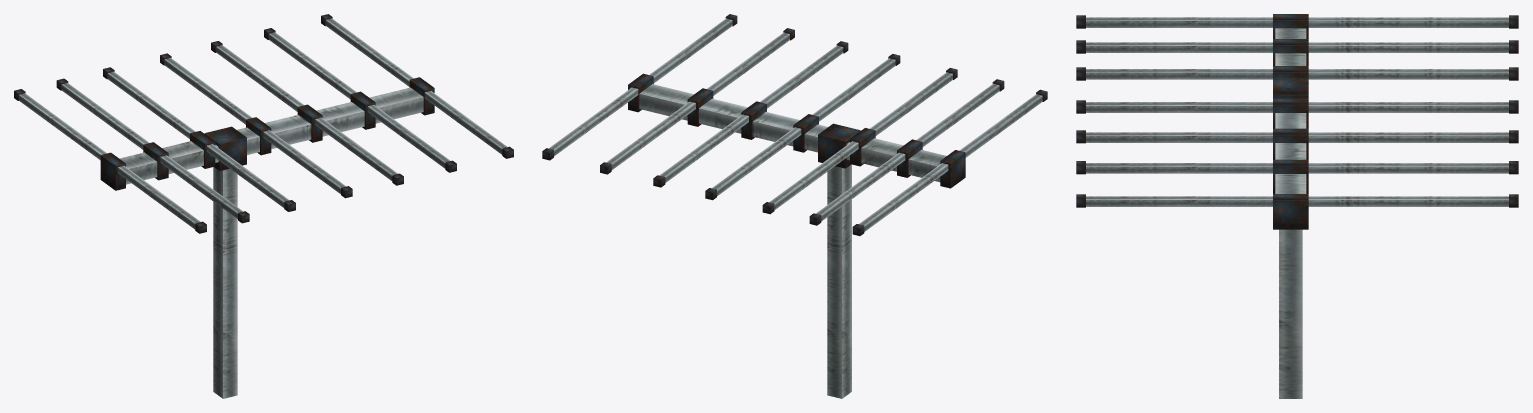
Rendered from Antenna2.fbx.
3 renders of one model, left to right at view 1: azimuth 30°, elevation 25°; view 2: azimuth 150°, elevation 25°; view 3: azimuth 270°, elevation 25°, orthographic. The views are drawn at different scales.
Parts seen in each view (by area): view 1: antenna2; view 2: antenna2; view 3: antenna2.
Boxes of the visible parts, bbox=[...] form: antenna2: bbox=[14, 14, 513, 398]; antenna2: bbox=[542, 14, 1047, 398]; antenna2: bbox=[1076, 14, 1518, 398].
Bounding box in the file's own units: 173 × 136 × 174.
